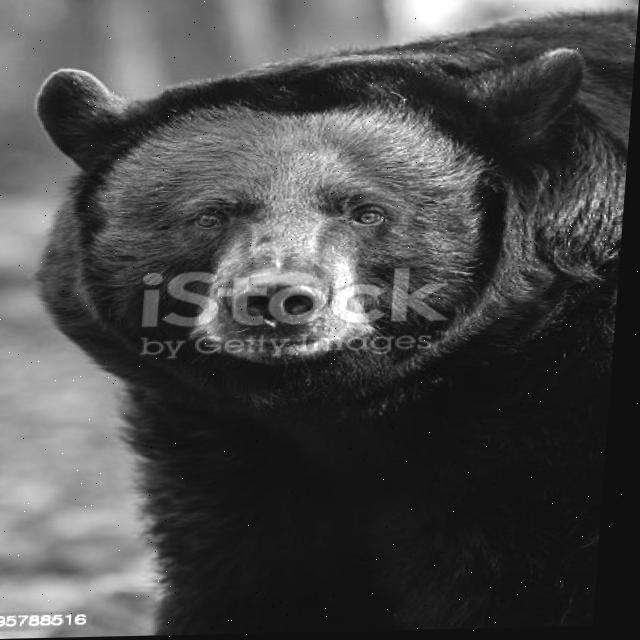Bear: (1, 7, 638, 639)
